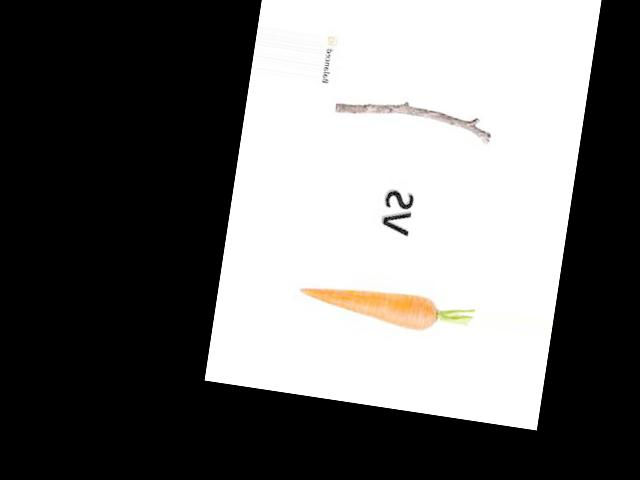carrot: (291, 271, 448, 335)
